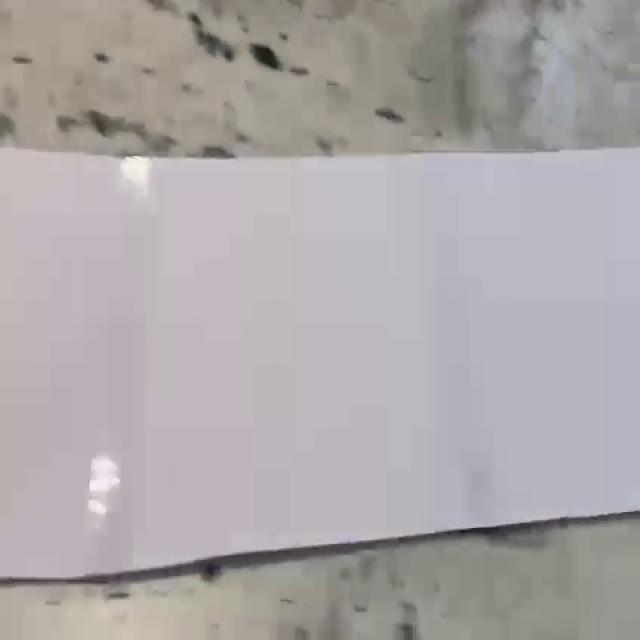road: (0, 148, 640, 578)
